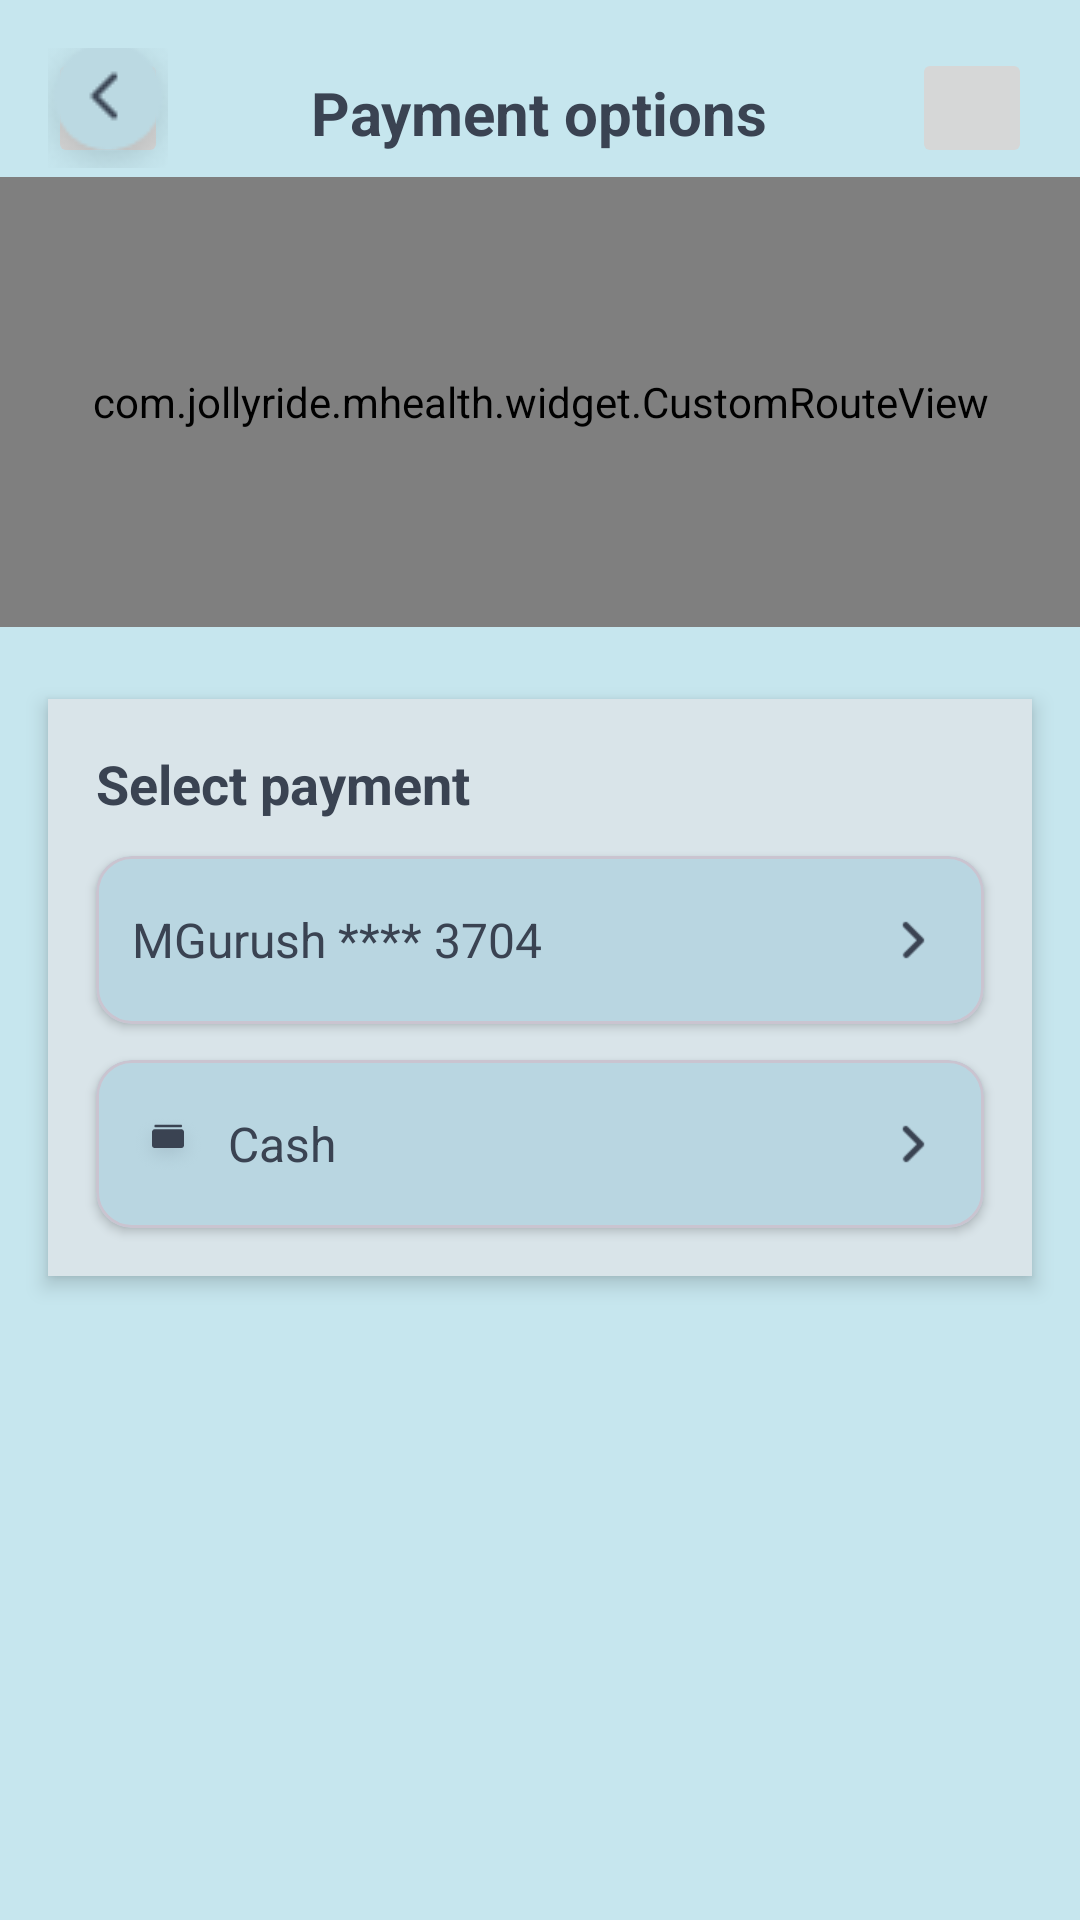

Where to tap for icons on this 1080 x 1920 app screen, as [x,y]:
arrow right: [913,940], [913,1144]
back: [108,107]
